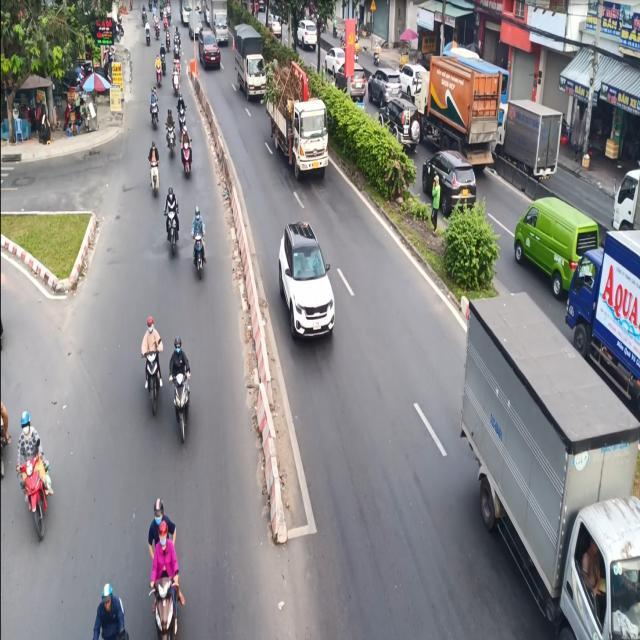car: (514, 183, 602, 305), (277, 220, 336, 340), (426, 141, 484, 217)
motorcycle: (12, 461, 56, 546), (148, 574, 180, 639), (168, 371, 191, 443), (142, 349, 162, 415), (163, 208, 179, 256), (191, 232, 206, 279)
person: (149, 520, 185, 606), (91, 582, 127, 639), (17, 406, 49, 464), (147, 497, 176, 559), (424, 173, 444, 230), (168, 336, 192, 381), (140, 315, 164, 357), (188, 208, 208, 244), (164, 187, 179, 224)
truck: (458, 293, 639, 639), (559, 222, 640, 372), (412, 49, 510, 170), (263, 59, 329, 180), (506, 94, 565, 188), (225, 22, 269, 95)
